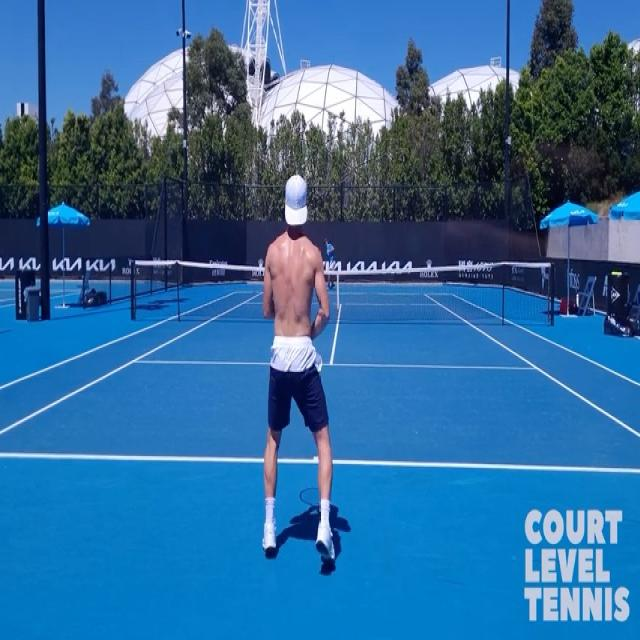ready-position: (262, 170, 332, 600)
